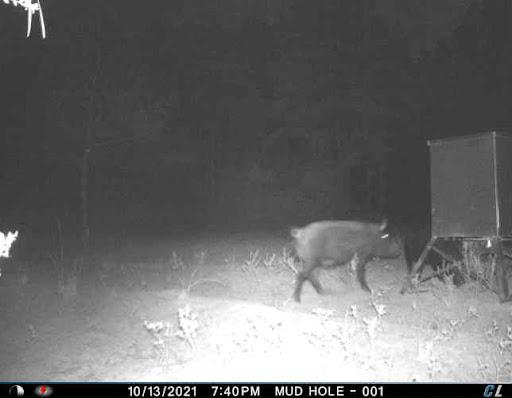Hog: (282, 216, 404, 305), (426, 232, 468, 292)
